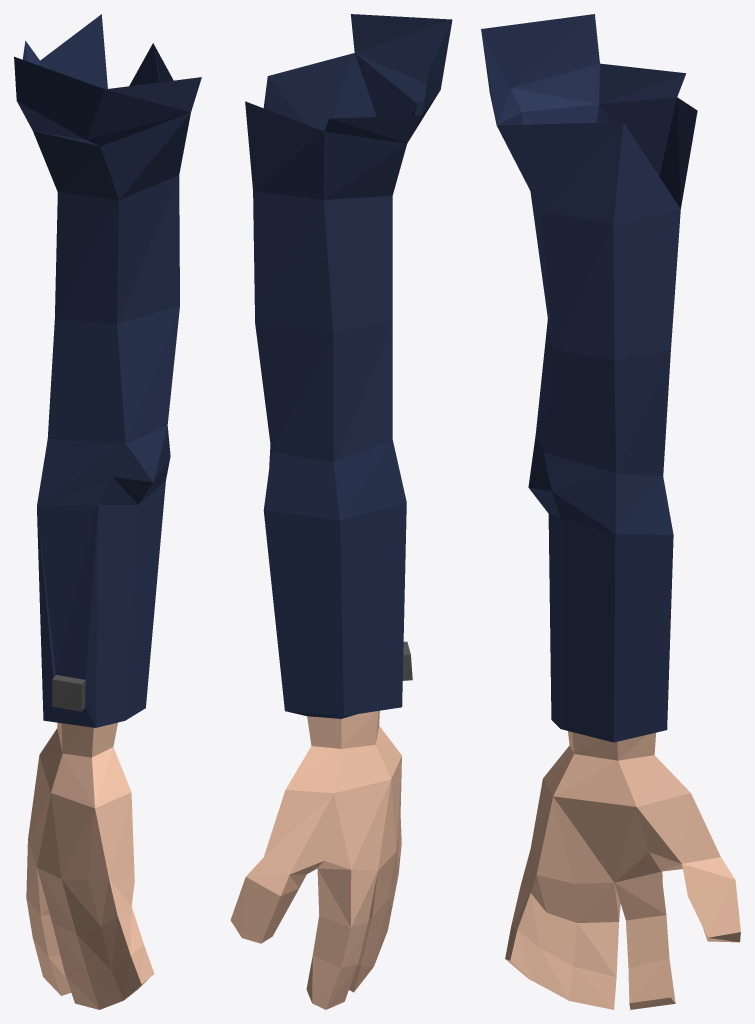
Rendered from ArmL.obj.
3 renders of one model, left to right at view 1: azimuth 30°, elevation 25°; view 2: azimuth 150°, elevation 25°; view 3: azimuth 270°, elevation 25°, orthographic. The views are drawn at different scales.
Size of the model in its own units: 0.1493 by 0.8464 by 0.2073.
1 material, 1 textured.
